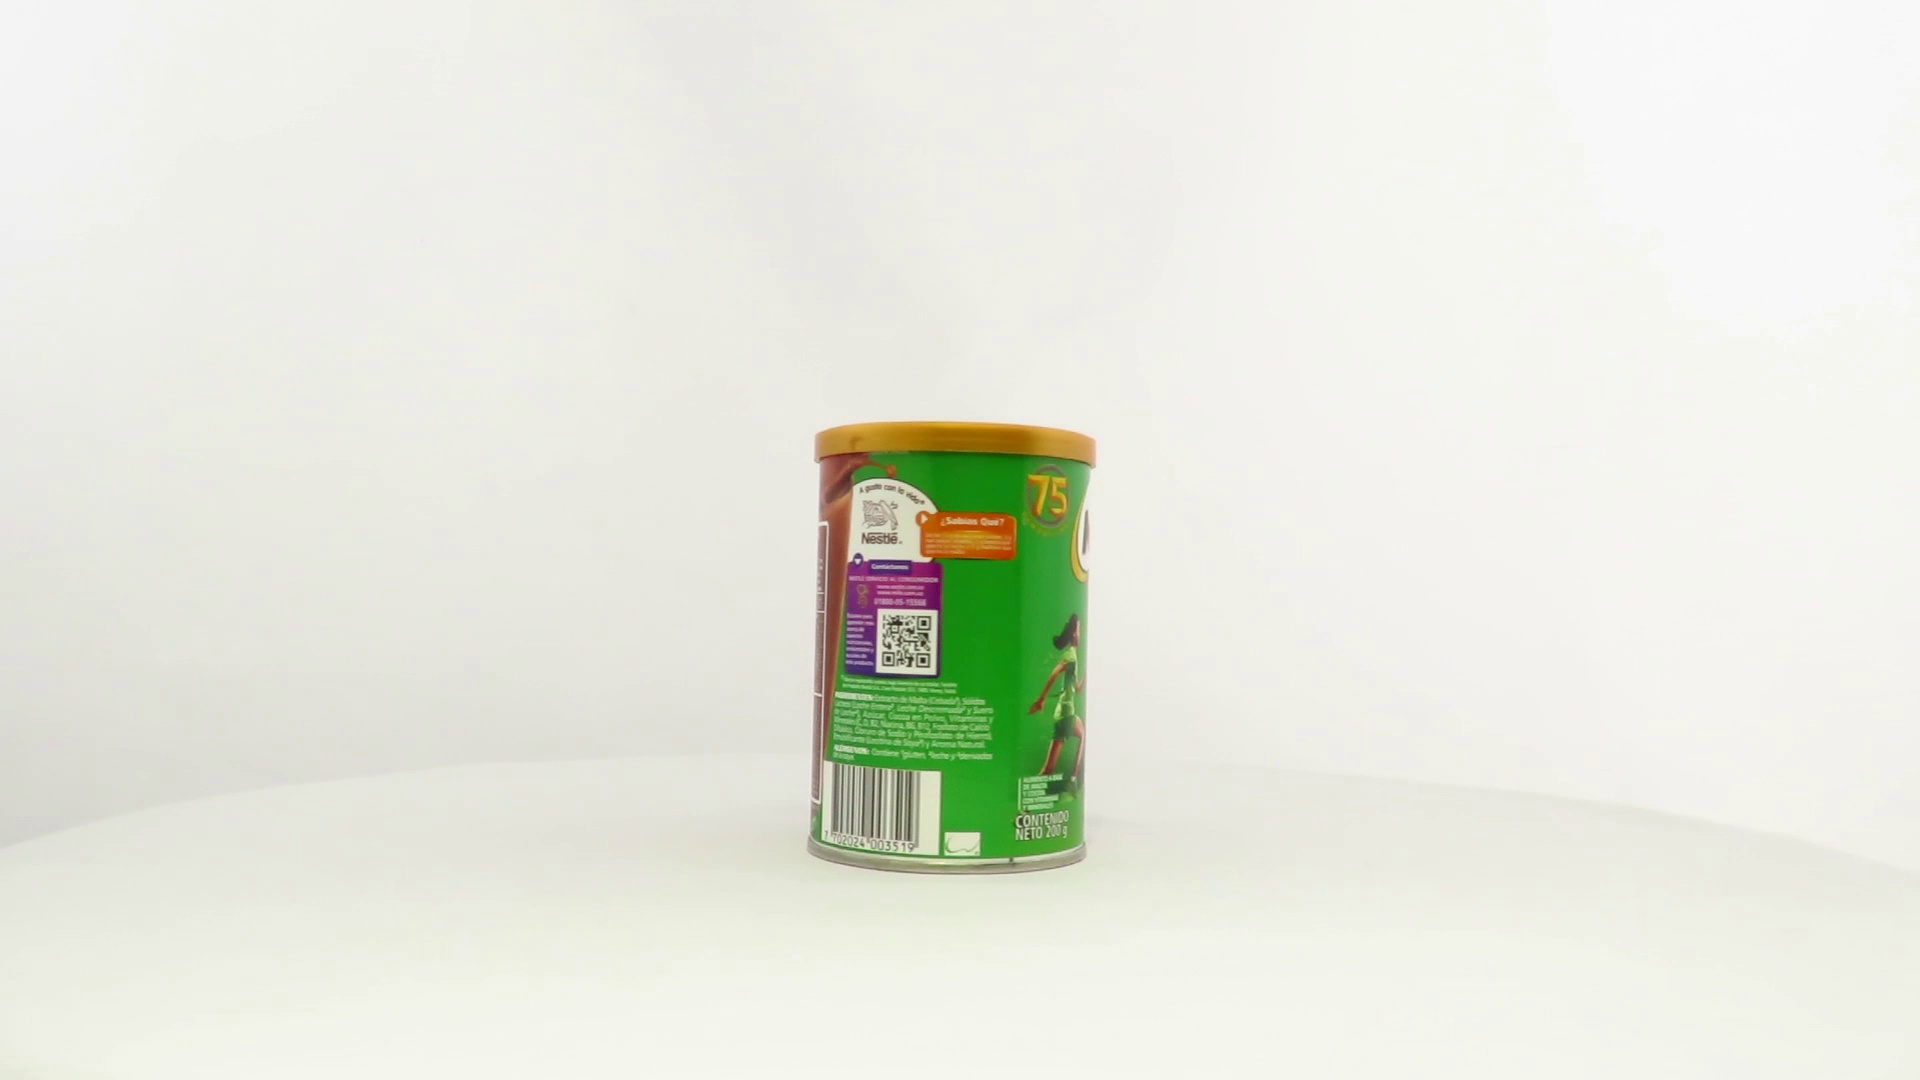COL0170203LAT20000: (800, 415, 1102, 881)
